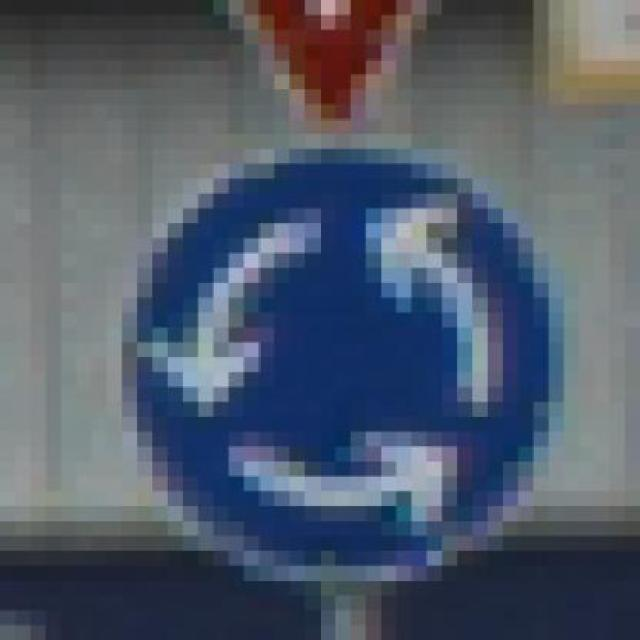Round-About: (107, 119, 579, 581)
